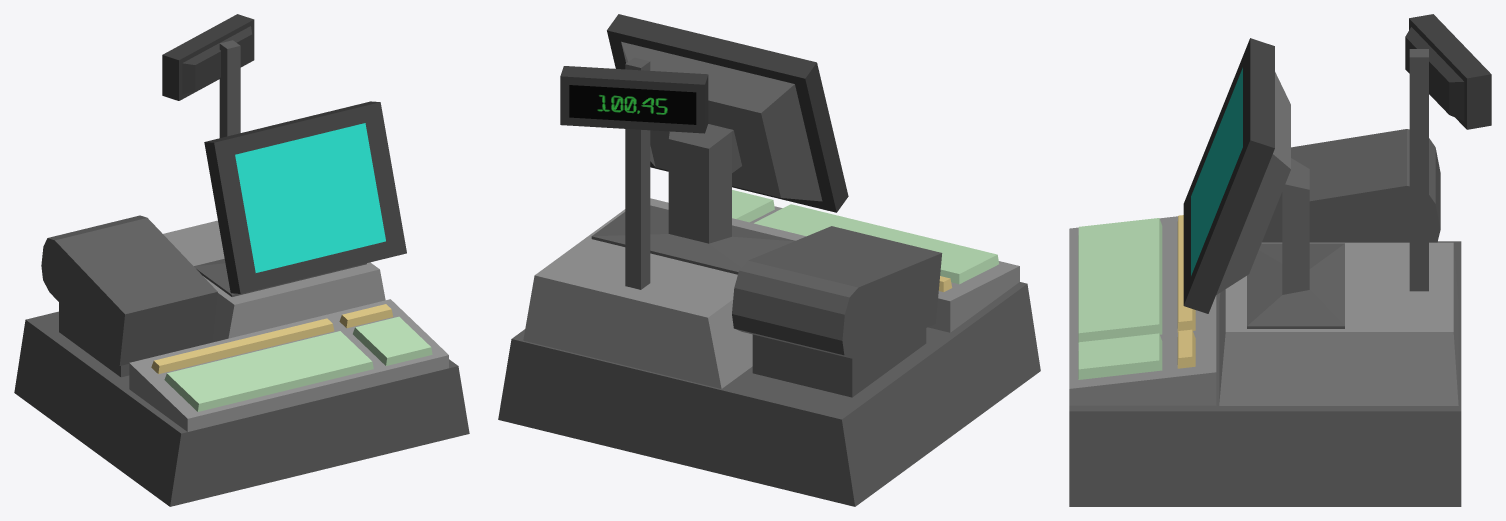
The model's file is Cash_machine.fbx.
3 renders of one model, left to right at view 1: azimuth 30°, elevation 25°; view 2: azimuth 150°, elevation 25°; view 3: azimuth 270°, elevation 25°, orthographic. The views are drawn at different scales.
Visible parts, largest first — view 1: Cash; view 2: Cash; view 3: Cash.
Boxes of the visible parts, left/top/right/bottom form: Cash: left=14, top=14, right=469, bottom=506; Cash: left=498, top=14, right=1040, bottom=506; Cash: left=1069, top=14, right=1491, bottom=506.
Bounding box in the file's own units: 0.5853 × 0.6033 × 0.6017.
